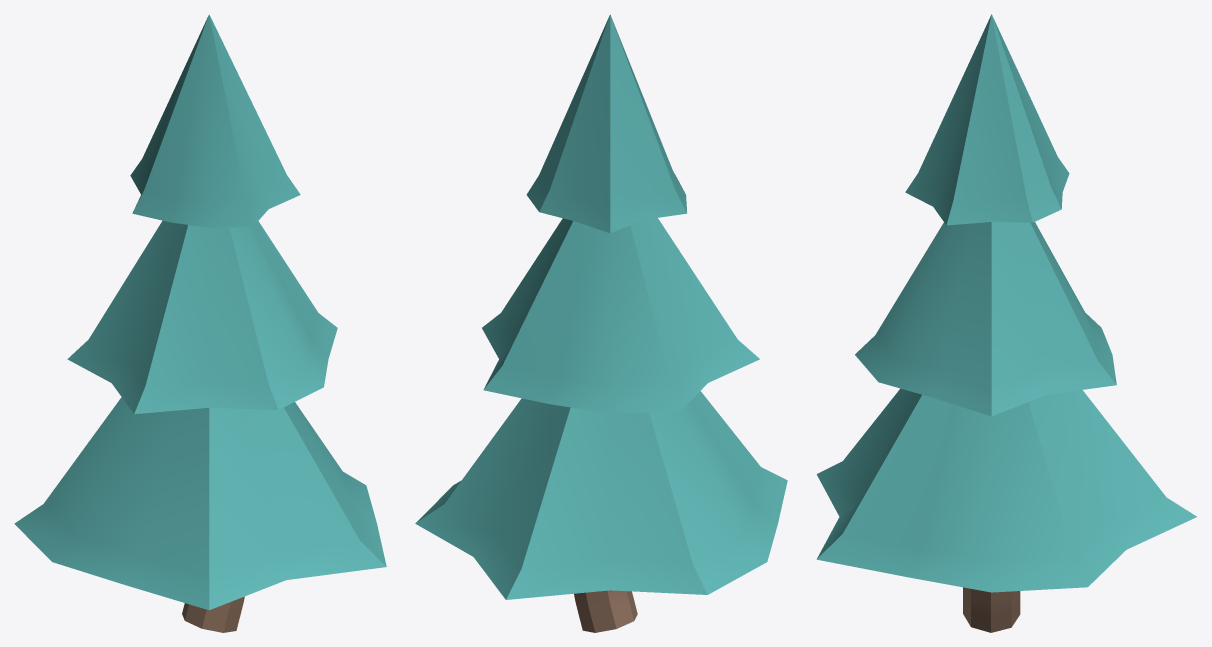
Rendered from Pine_B.fbx.
The picture shows the model from 3 angles, left to right: view 1: azimuth 30°, elevation 25°; view 2: azimuth 150°, elevation 25°; view 3: azimuth 270°, elevation 25°; orthographic projection.
Parts seen in each view (by area): view 1: Pine_B; view 2: Pine_B; view 3: Pine_B.
Part boxes in pixels (<box>): Pine_B: <box>14,14,386,632</box>; Pine_B: <box>415,14,787,632</box>; Pine_B: <box>816,14,1196,632</box>.
Size of the model in its own units: 10 by 18.72 by 10.64.
